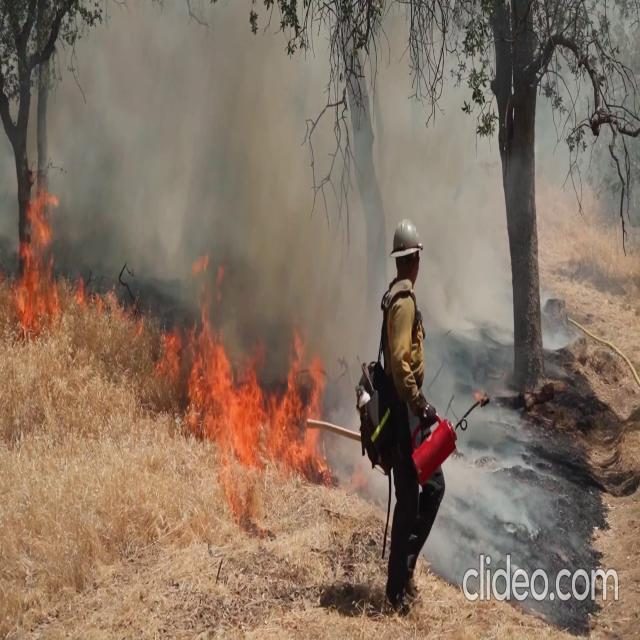Fire: (182, 337, 330, 485), (10, 170, 62, 324)
Smoke: (51, 23, 610, 325), (52, 7, 458, 317)
